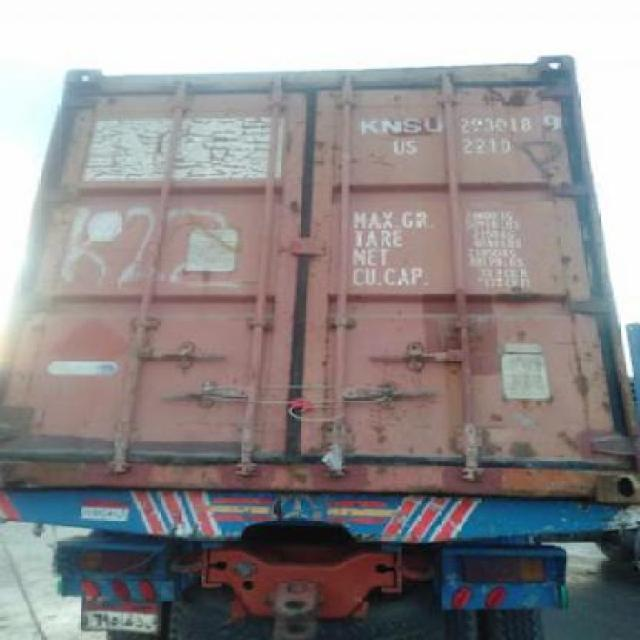ISO: (458, 139, 516, 157)
container_number: (346, 106, 564, 136)
